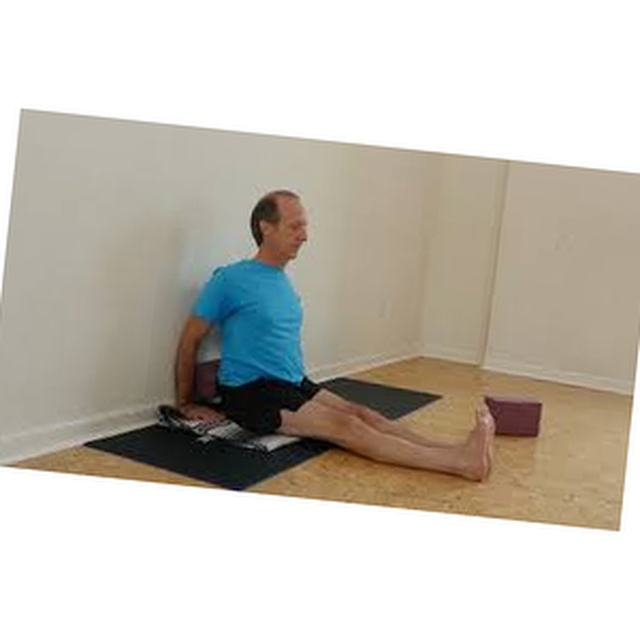Staff_Pose: (175, 189, 495, 483)
